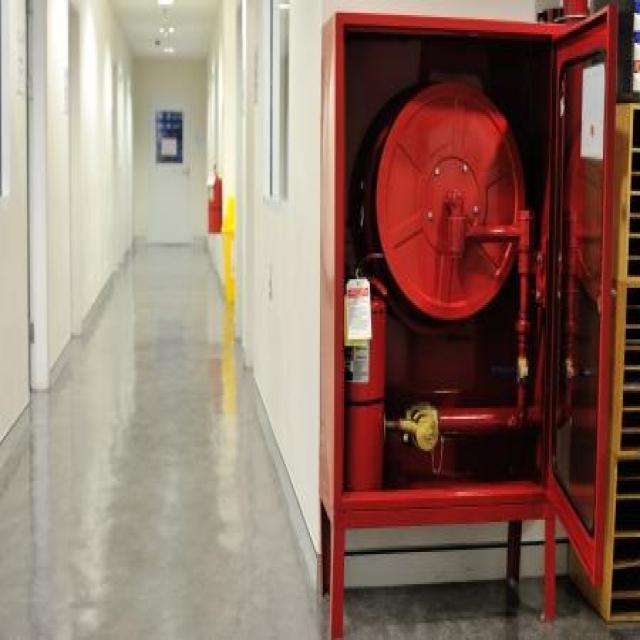fire_extinguisher: (336, 243, 391, 500), (205, 155, 222, 236)
